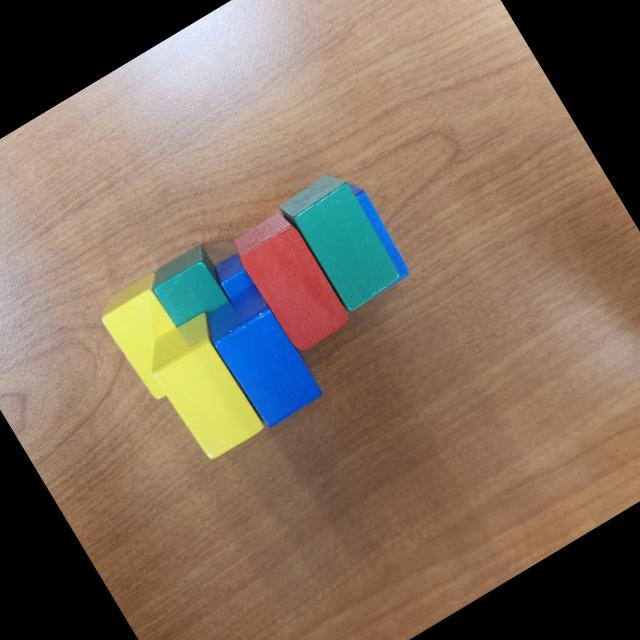blue: (197, 282, 327, 433), (310, 174, 416, 302), (208, 248, 262, 304)
green: (277, 168, 407, 317), (142, 242, 235, 334)
red: (230, 208, 352, 355)
yellow: (136, 308, 274, 466), (92, 270, 212, 405)
